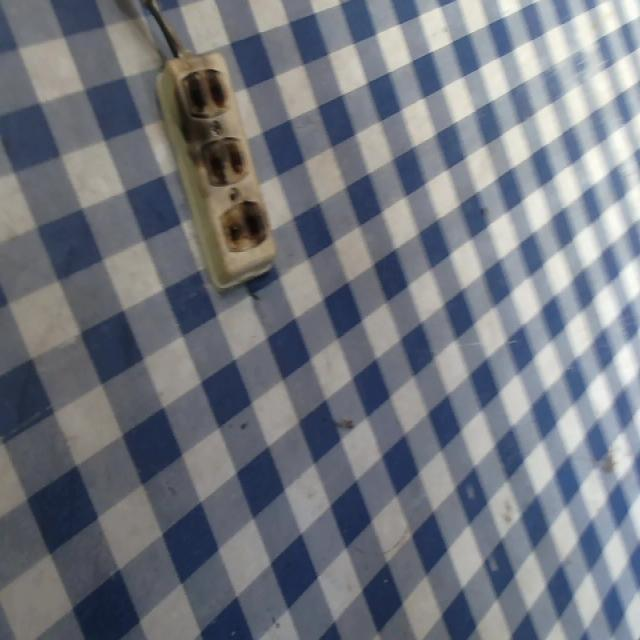-: (178, 128, 250, 187), (175, 62, 236, 122), (215, 194, 269, 254)
